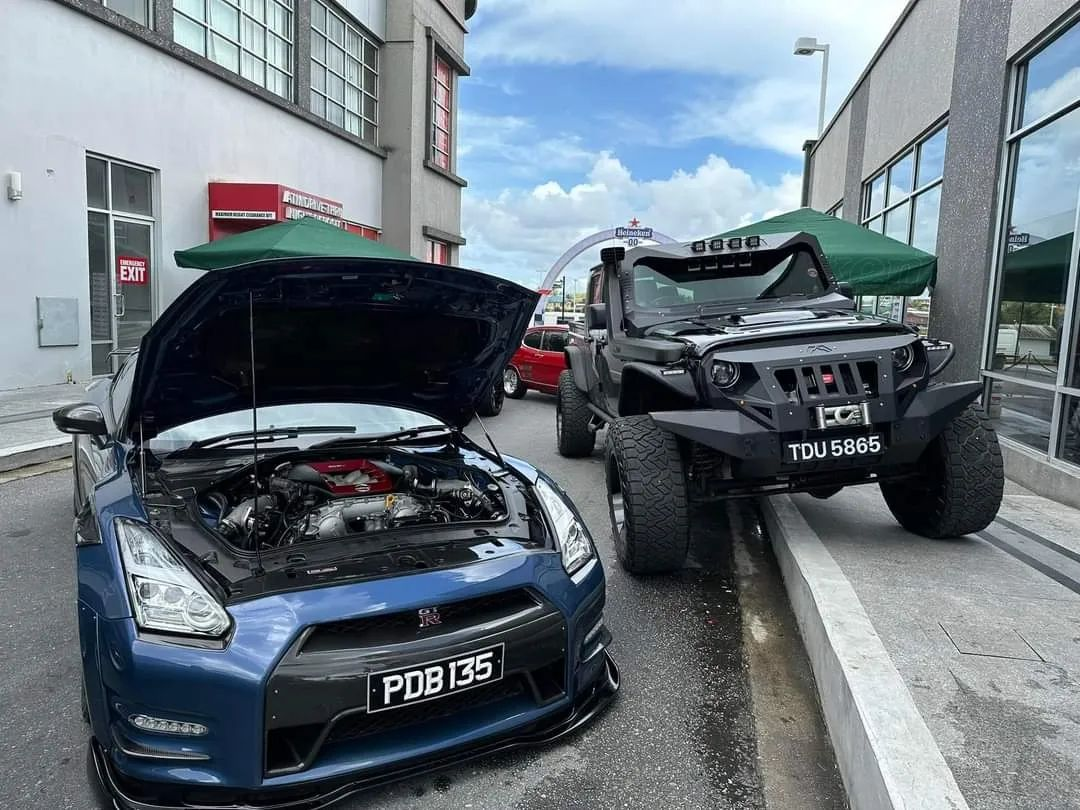License-Plate: (370, 677, 498, 709), (784, 442, 883, 463)
